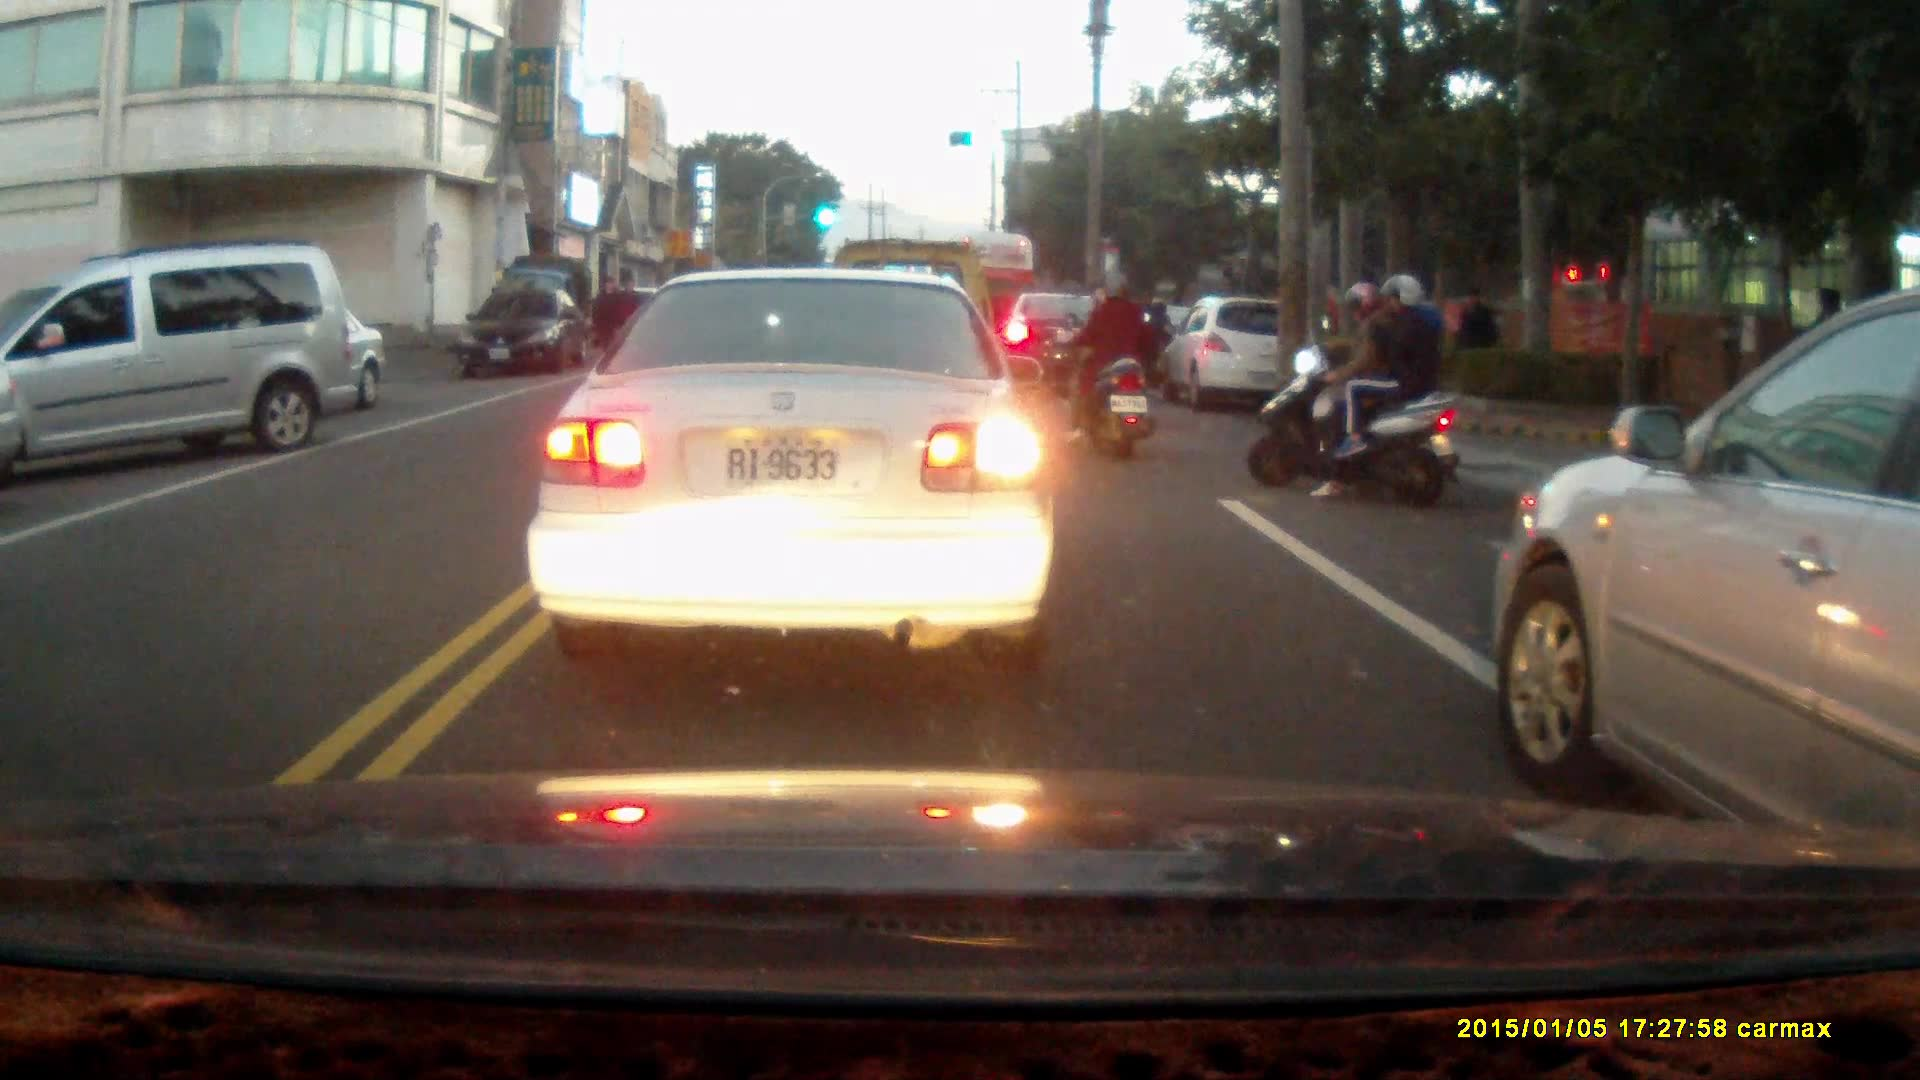pedestrian: (1451, 281, 1494, 379), (589, 276, 622, 364), (614, 273, 641, 359)
rider: (1245, 273, 1461, 508), (1062, 267, 1156, 461), (1138, 294, 1172, 379)
vehicle: (1496, 292, 1920, 847), (541, 265, 1054, 643), (1, 243, 360, 481), (1157, 295, 1309, 406), (995, 287, 1132, 395), (462, 284, 587, 377)
